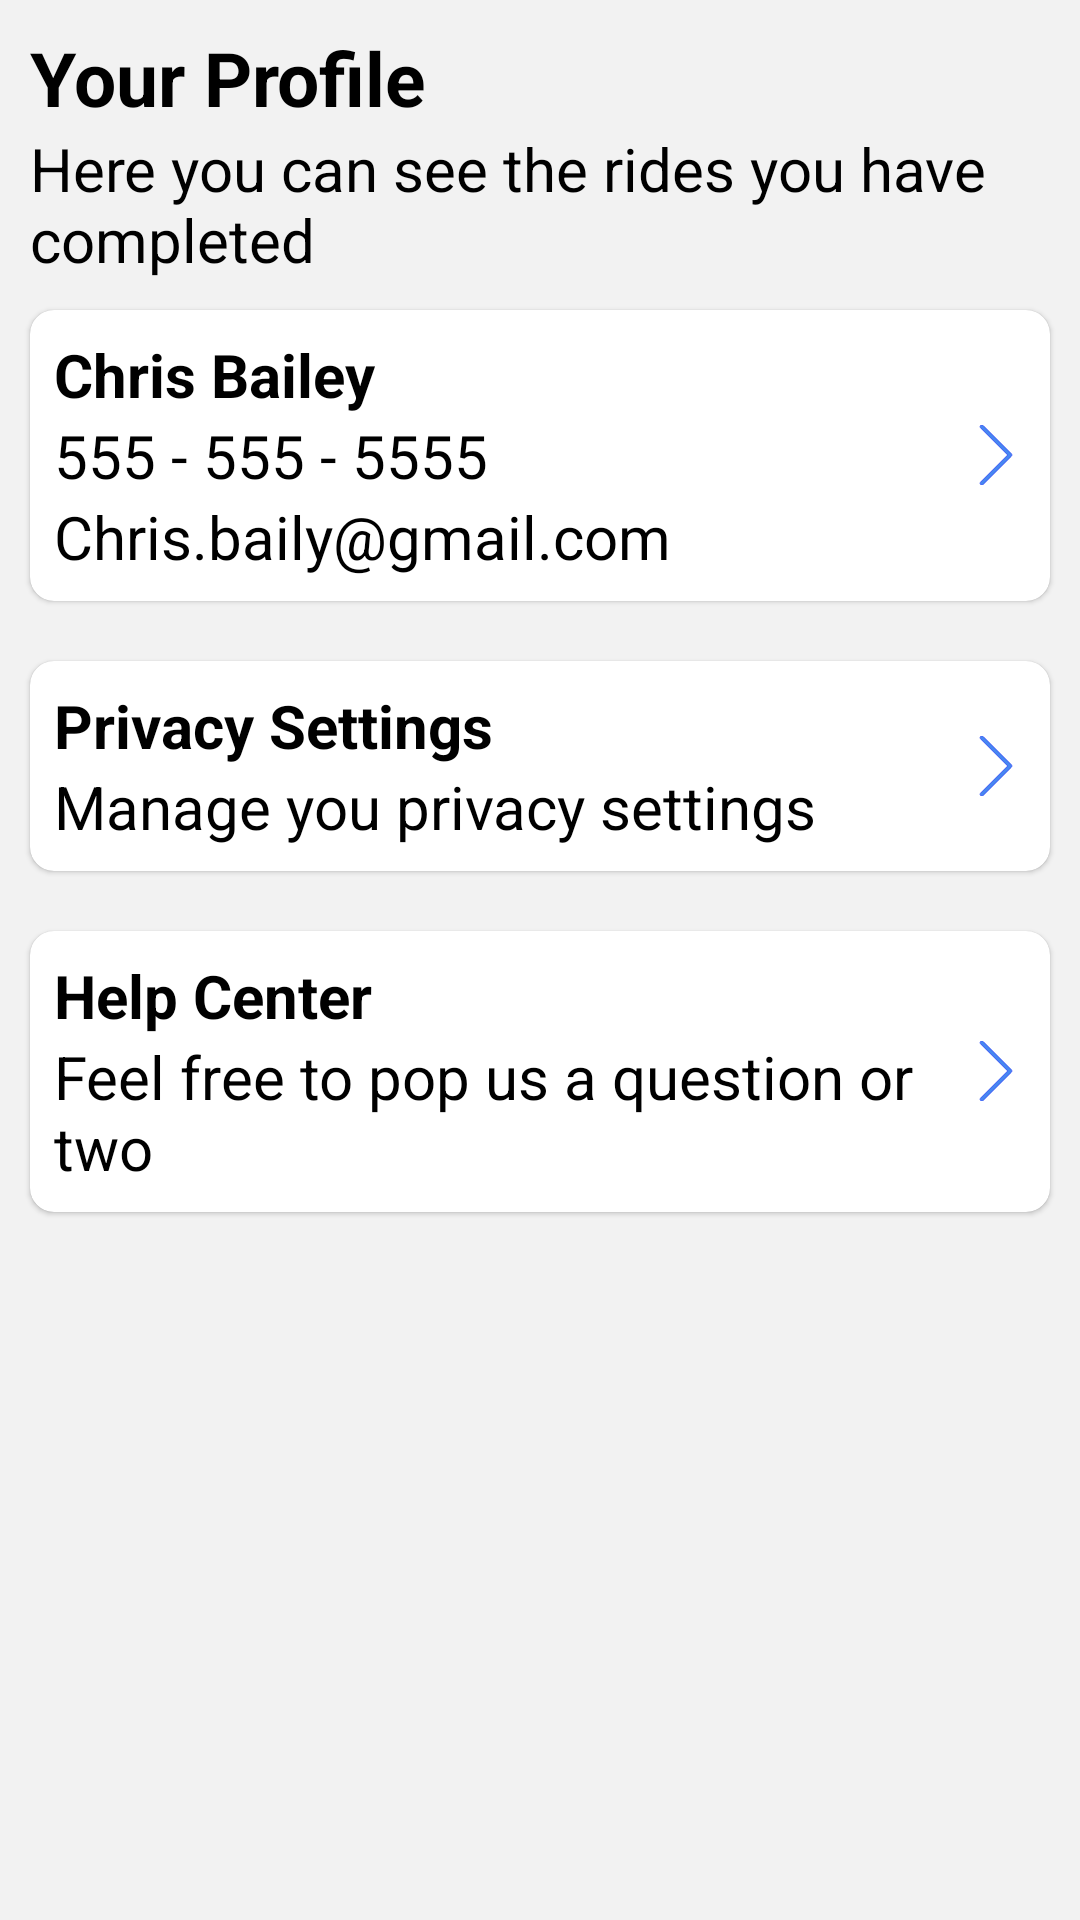

Screen size 1080*1920. Icon name, then its box in pixels as (x1, y1, x2, y2):
next: (979, 425, 1013, 485), (979, 736, 1013, 796), (979, 1041, 1013, 1101)
